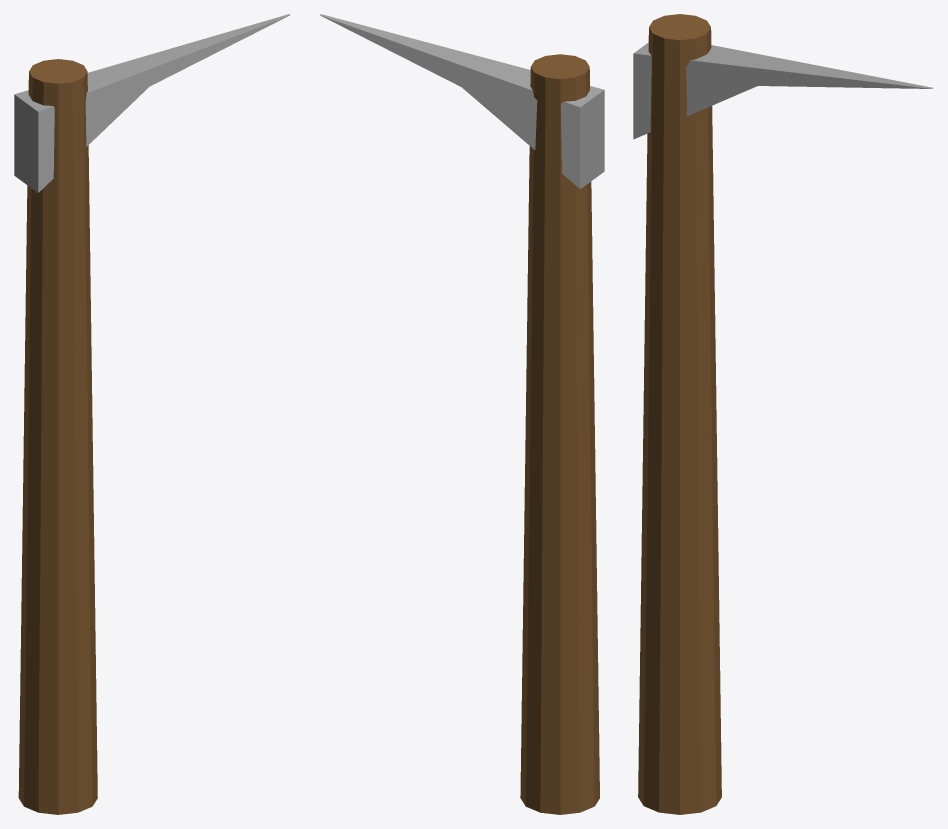
Rendered from expPickaxe.fbx.
The picture shows the model from 3 angles, left to right: view 1: azimuth 30°, elevation 25°; view 2: azimuth 150°, elevation 25°; view 3: azimuth 330°, elevation 25°; orthographic projection. The views are drawn at different scales.
Visible parts, largest first — view 1: pCylinder11, pCube5; view 2: pCylinder11, pCube5; view 3: pCylinder11, pCube5.
Part boxes in pixels (x1=…): pCylinder11: x1=18, y1=59, x2=97, y2=814; pCube5: x1=14, y1=14, x2=290, y2=192; pCylinder11: x1=520, y1=54, x2=599, y2=814; pCube5: x1=320, y1=14, x2=604, y2=188; pCylinder11: x1=638, y1=14, x2=721, y2=814; pCube5: x1=633, y1=42, x2=932, y2=139.
Size of the model in its own units: 53.7 by 138 by 13.65.
